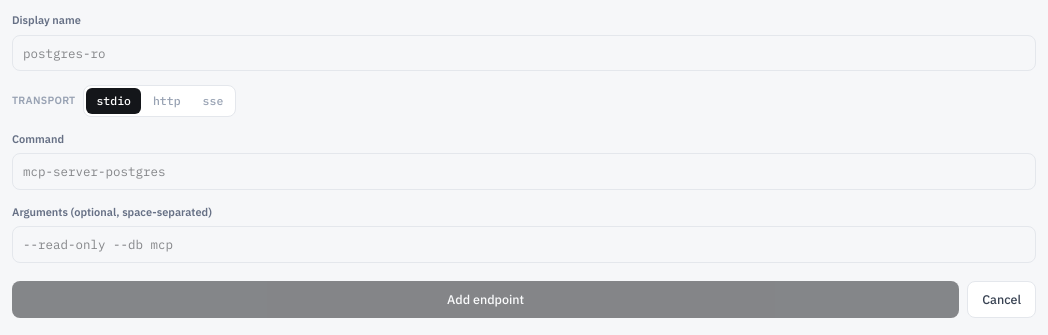
Test: AddEndpointForm › states the URL rule up front rather than making you submit to find it
Click the radio button labelled "http": (167, 101) [143, 88, 191, 114]
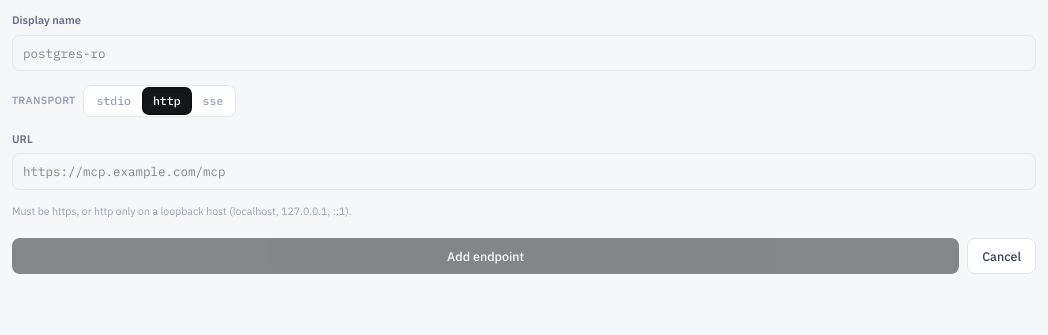
expect the text "loopback host" is shown: met, box [12, 204, 352, 218]
